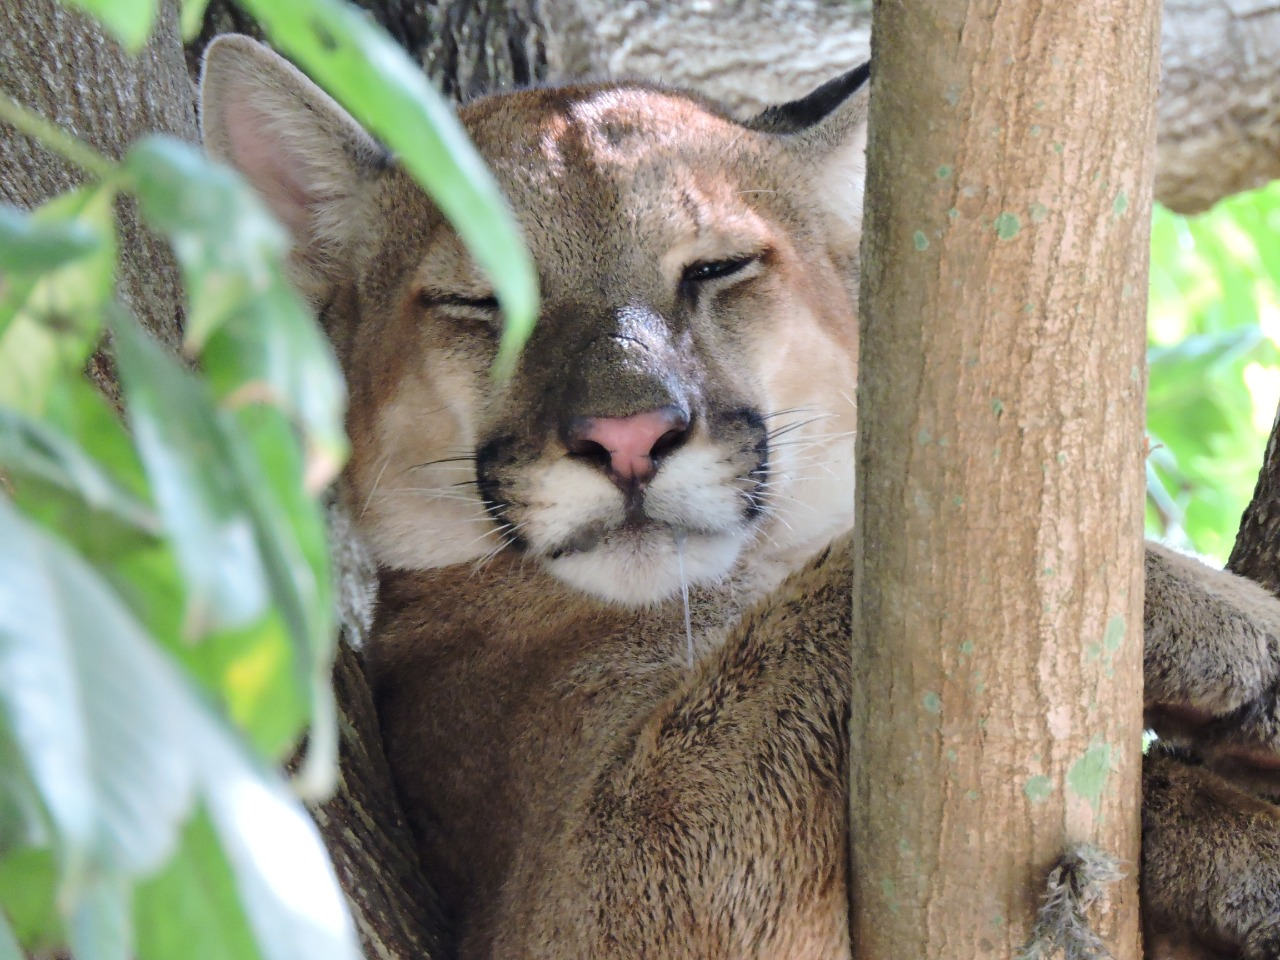OncaParda: (185, 25, 1253, 949)
